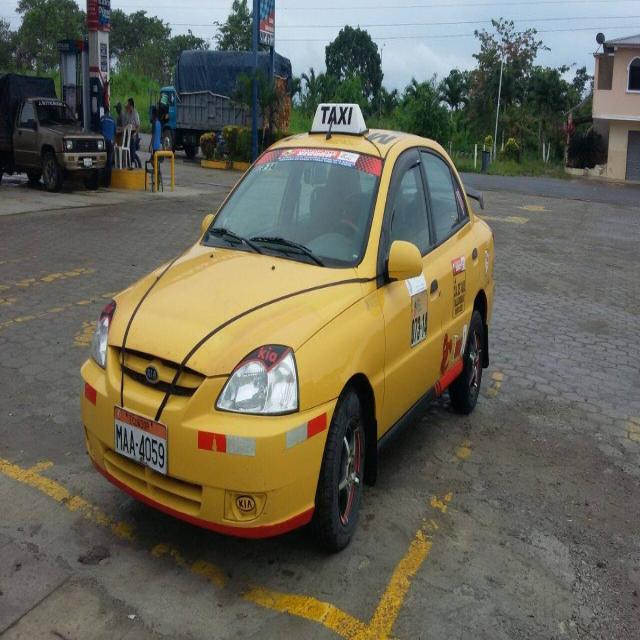Taxi: (147, 103, 509, 513)
